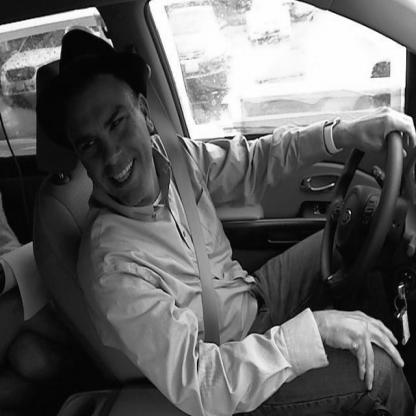seatbelt: (67, 31, 239, 320)
